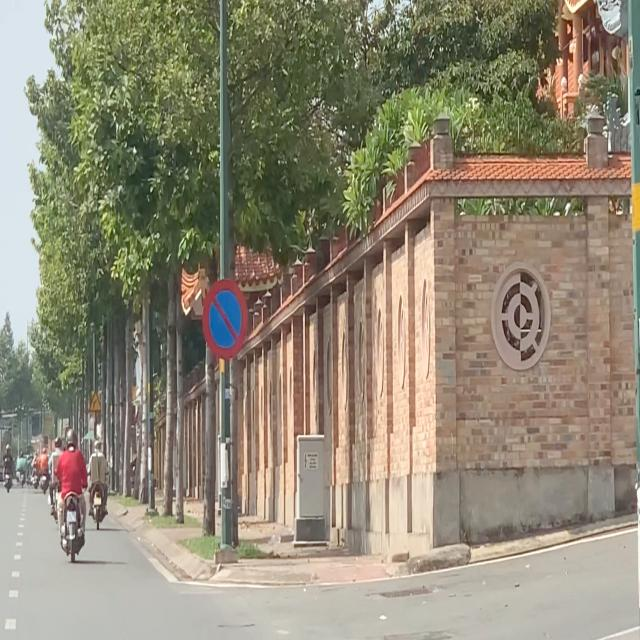Cam do: (202, 279, 249, 360)
Nguy hiem: (88, 391, 102, 413)
